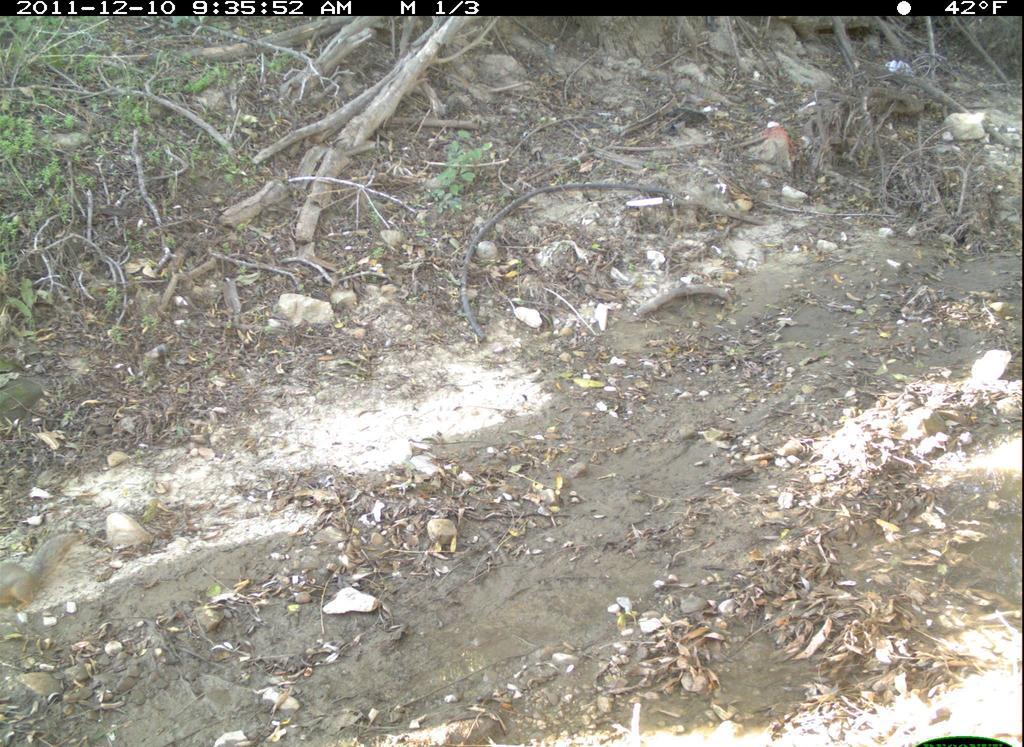squirrel: (1, 521, 98, 620)
